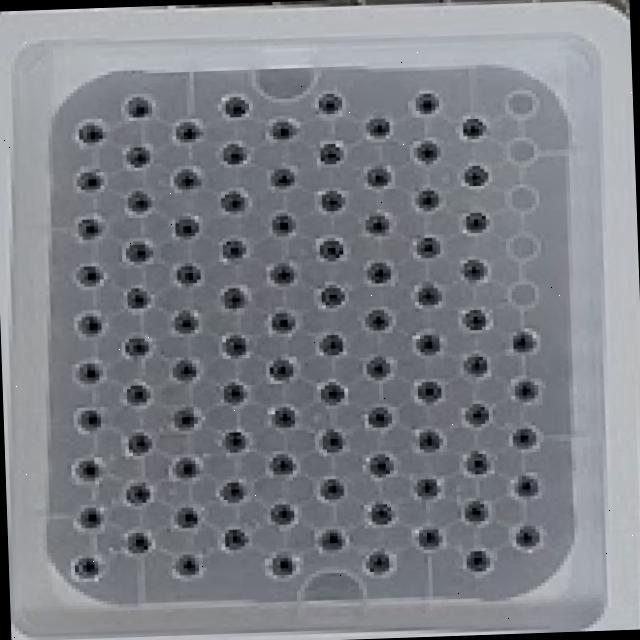pfs: (71, 556, 103, 581), (412, 331, 442, 354), (511, 524, 540, 547), (413, 91, 440, 115), (219, 334, 247, 357), (414, 526, 442, 549), (512, 329, 539, 352), (416, 282, 442, 305), (463, 353, 489, 376), (368, 502, 395, 524), (173, 168, 201, 189), (76, 170, 104, 191), (124, 98, 153, 118), (122, 335, 147, 358), (368, 453, 393, 476), (173, 456, 199, 478), (269, 554, 295, 576), (75, 362, 102, 383), (174, 310, 198, 333), (464, 164, 489, 186), (463, 308, 488, 330), (319, 333, 344, 355), (172, 359, 197, 381), (365, 117, 391, 138), (364, 213, 390, 234), (365, 309, 391, 330), (269, 312, 295, 333), (76, 265, 102, 286), (270, 454, 296, 475), (320, 429, 343, 452), (416, 236, 440, 258), (319, 238, 343, 260), (366, 355, 390, 377), (175, 407, 199, 429), (224, 528, 248, 550), (367, 261, 391, 283), (220, 190, 245, 211), (320, 286, 345, 307), (513, 379, 538, 400), (416, 381, 441, 402), (512, 427, 537, 448), (269, 264, 295, 284), (463, 258, 486, 280), (465, 403, 488, 425), (321, 382, 344, 404), (368, 405, 391, 427), (222, 382, 245, 404), (415, 141, 439, 162), (367, 166, 391, 187), (126, 146, 150, 167), (223, 430, 247, 451), (271, 214, 295, 235), (224, 97, 249, 117), (269, 359, 294, 379), (125, 384, 150, 404), (320, 479, 345, 499), (77, 410, 102, 430), (270, 504, 295, 524), (319, 530, 344, 550), (77, 123, 103, 142), (128, 190, 150, 212), (126, 241, 148, 263), (467, 451, 489, 473), (223, 143, 246, 164), (78, 218, 101, 239), (418, 430, 441, 451), (78, 314, 101, 335), (273, 406, 296, 427), (466, 550, 489, 571), (462, 118, 486, 138), (270, 167, 295, 186), (176, 265, 201, 284), (271, 120, 297, 138), (318, 93, 341, 113), (321, 191, 344, 211), (464, 501, 487, 521), (129, 433, 152, 453), (366, 552, 389, 572), (175, 555, 198, 575), (176, 122, 200, 141), (175, 217, 199, 236), (517, 475, 538, 496), (465, 212, 487, 232), (417, 189, 439, 209), (320, 143, 342, 163), (126, 288, 148, 308), (176, 507, 198, 527), (128, 533, 150, 553), (222, 288, 245, 307), (220, 482, 243, 501), (76, 461, 99, 480), (126, 484, 149, 503), (415, 479, 439, 497), (222, 239, 245, 257), (79, 507, 101, 521)
